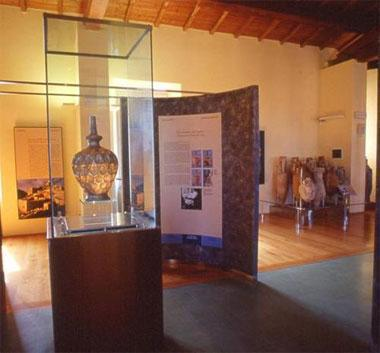Otro Obstaculo: (276, 153, 352, 230)
